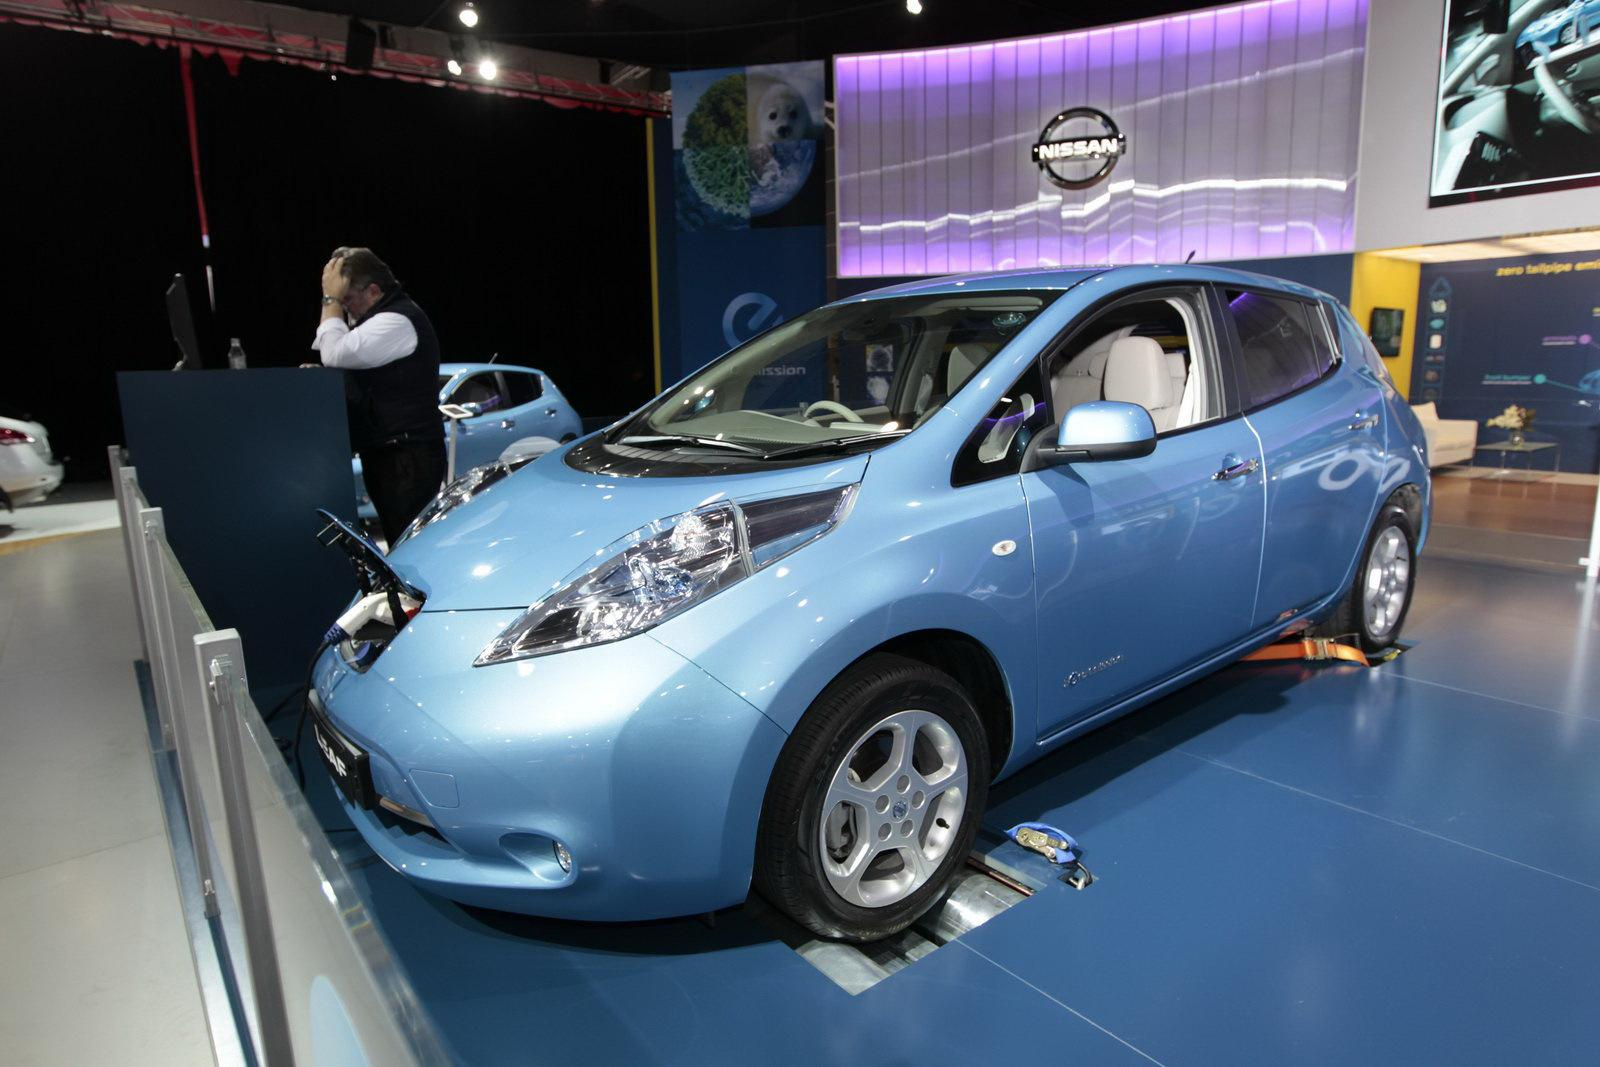car: (288, 223, 1480, 970)
